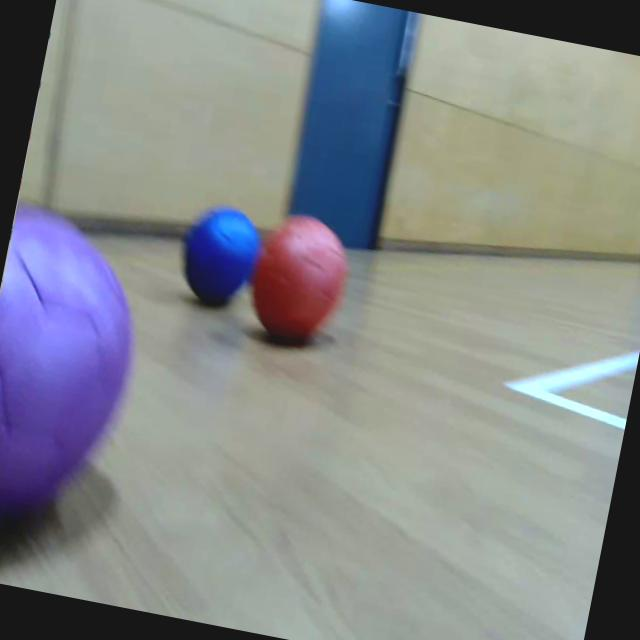blue_ball: (175, 200, 268, 310)
purple_ball: (0, 200, 156, 540)
red_ball: (240, 206, 356, 348)
